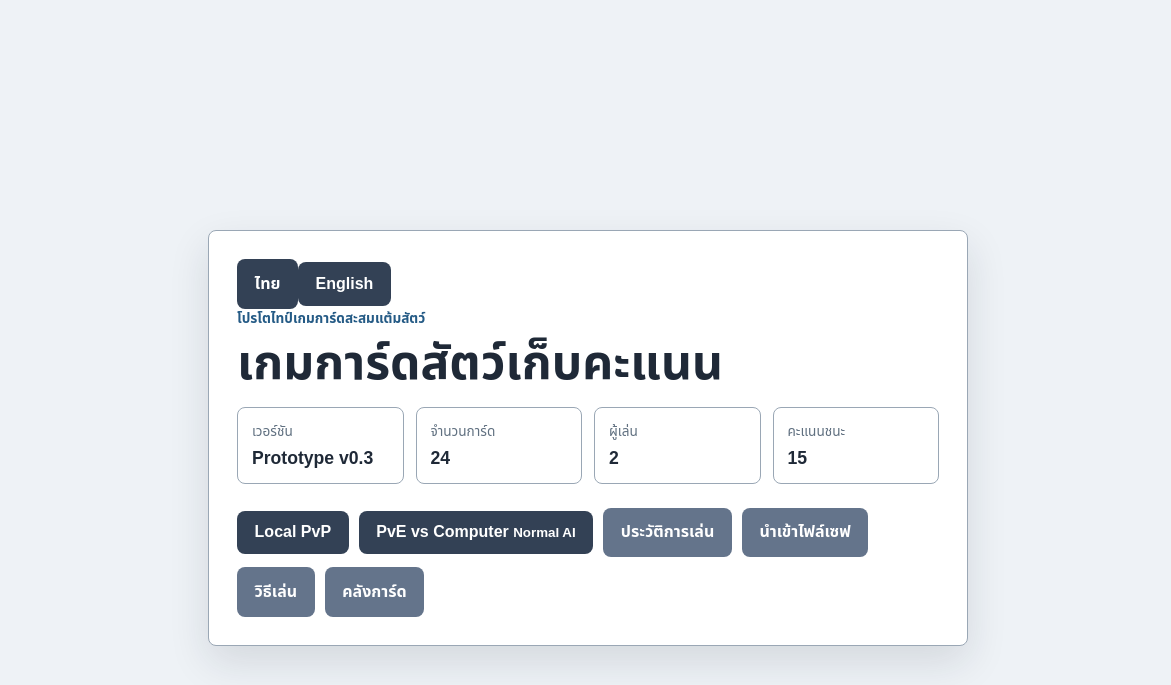
Test: App Phase 4 UI › switches language in an already-open Card Library
The image size is (1171, 685).
Click the button "คลังการ์ด".
click(374, 592)  # box [325,567,424,617]
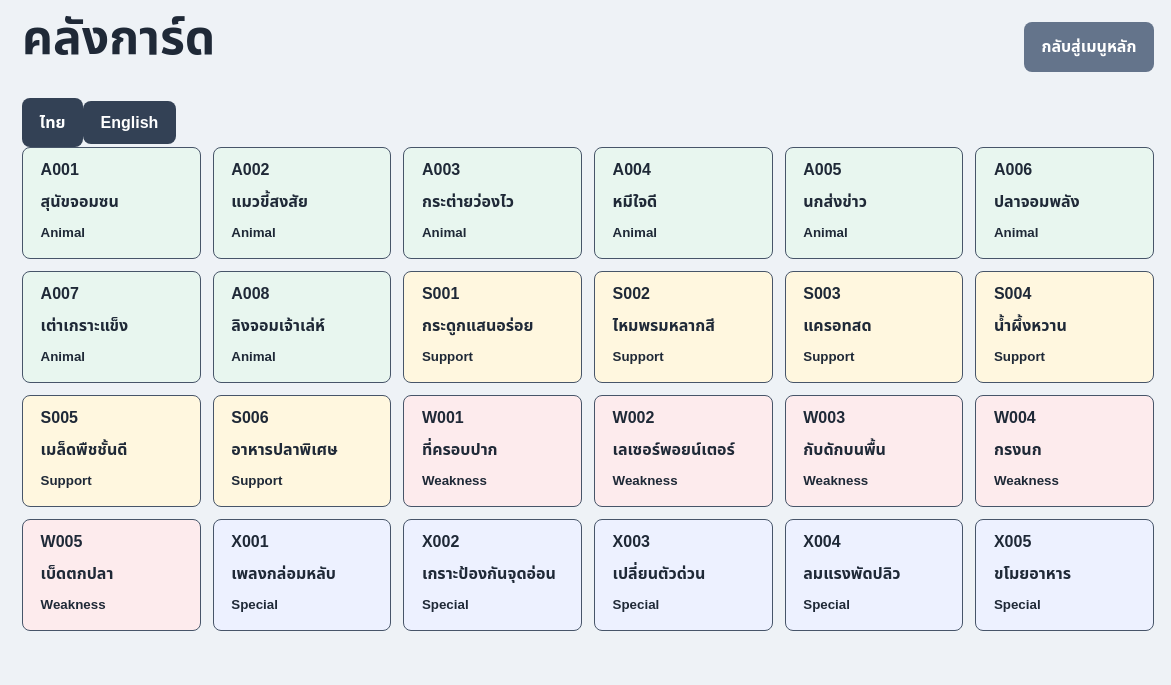
Expected: the text "สุนัขจอมซน" is shown, [41,193,119,210]
Click the button "English".
click(130, 123)  # box [83,101,176,144]
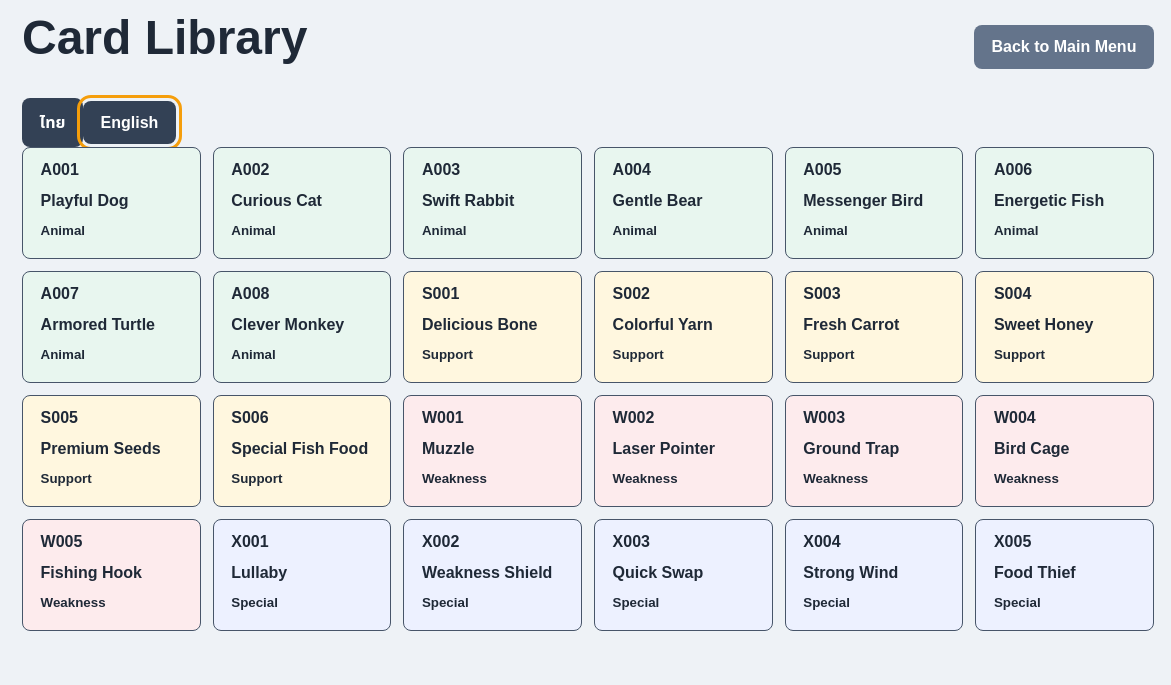
Expected: the text "Playful Dog" is shown, [41,192,129,209]
Click the button "ไทย".
click(52, 123)  # box [22,98,83,147]
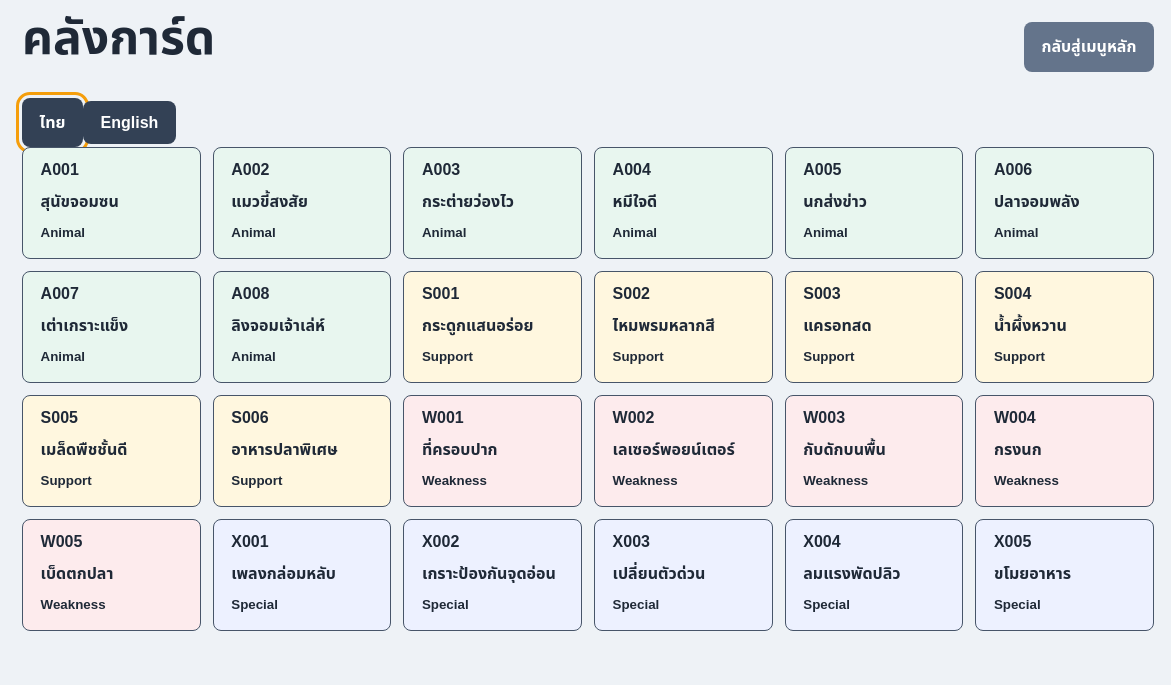
Expected: the text "สุนัขจอมซน" is shown, [41,193,119,210]
